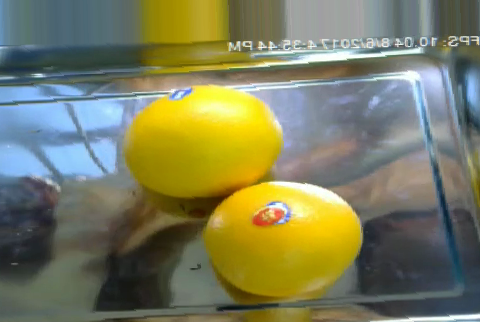Orange: (122, 83, 283, 199), (202, 180, 364, 295)
